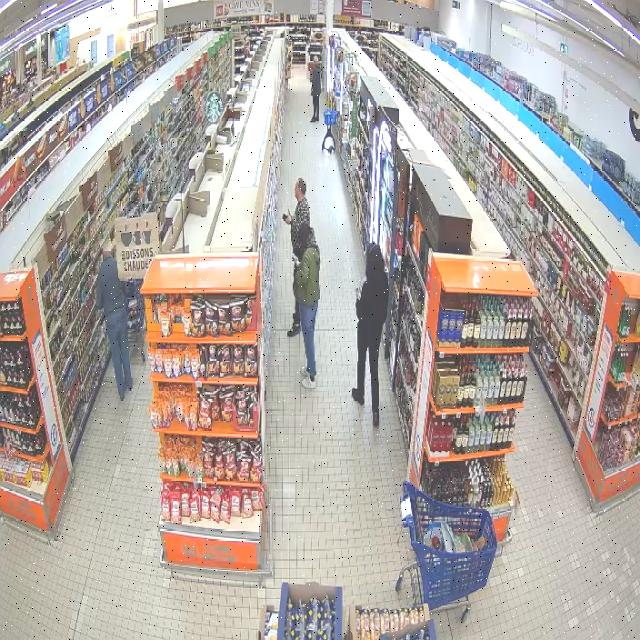person: (351, 242, 388, 427), (293, 223, 320, 388), (284, 178, 309, 258), (287, 301, 300, 337)
